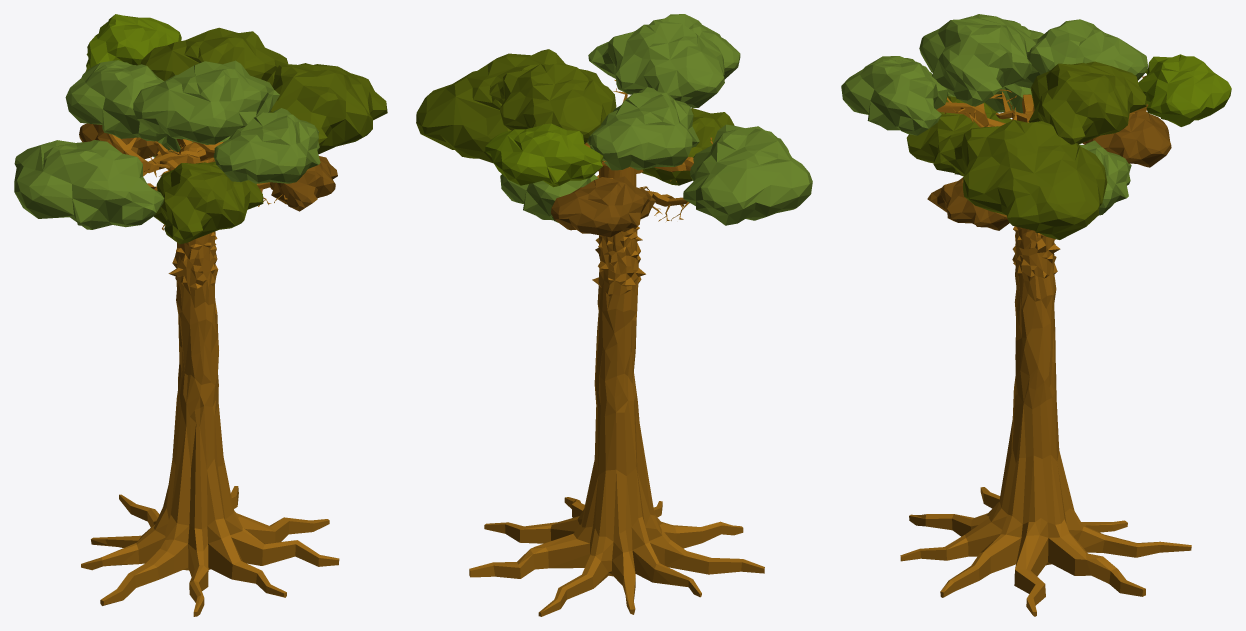
The model's file is Kapok Tree3.fbx.
3 renders of one model, left to right at view 1: azimuth 30°, elevation 25°; view 2: azimuth 150°, elevation 25°; view 3: azimuth 270°, elevation 25°, orthographic.
Parts seen in each view (by area): view 1: Body.003; view 2: Body.003; view 3: Body.003.
Boxes of the visible parts, x1,y1,x2,y2 form: Body.003: (14, 14, 387, 616); Body.003: (416, 14, 812, 616); Body.003: (841, 14, 1231, 616).
Size of the model in its own units: 2511 by 3388 by 2271.
1 material, 1 textured.
